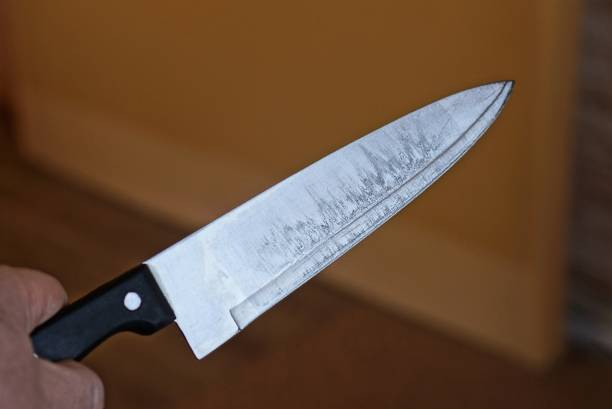knife: (142, 78, 517, 364)
